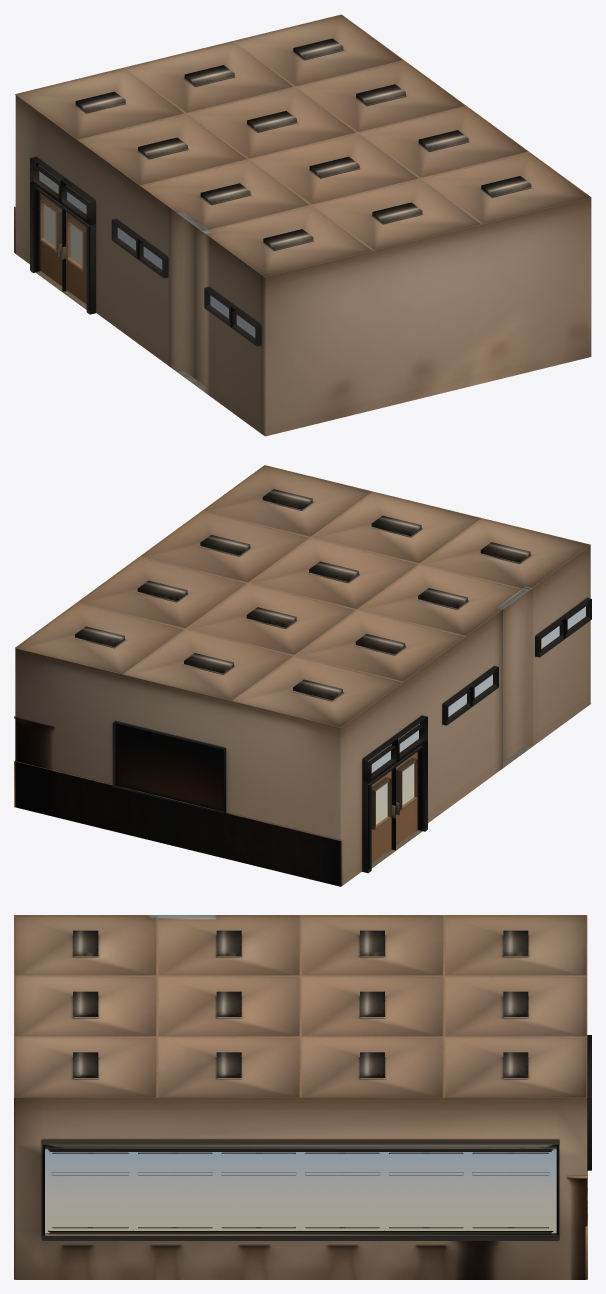
Rendered from classroom_default.glb.
3 renders of one model, top to bottom at view 1: azimuth 30°, elevation 25°; view 2: azimuth 150°, elevation 25°; view 3: azimuth 270°, elevation 25°, orthographic. The views are drawn at different scales.
Visible parts, largest first — view 1: Classroom; view 2: Classroom; view 3: Classroom, glass.
Boxes of the visible parts, box(x1,y1,x2,y2) form: Classroom: box(14, 14, 591, 436); Classroom: box(14, 465, 591, 886); Classroom: box(14, 915, 591, 1279); glass: box(45, 1149, 556, 1233).
Bounding box in the file's own units: 9.38 × 4.28 × 11.99.
2 materials, 1 textured.
